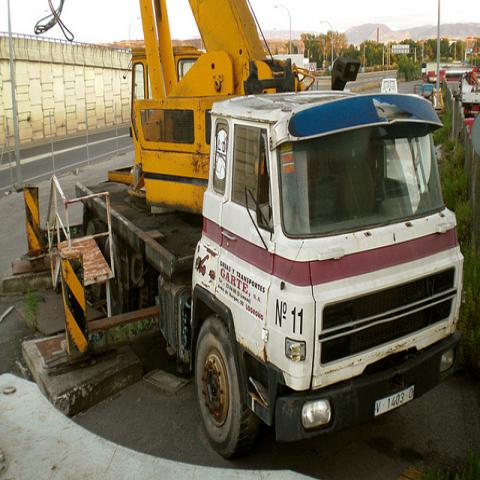truck: (76, 0, 466, 458)
